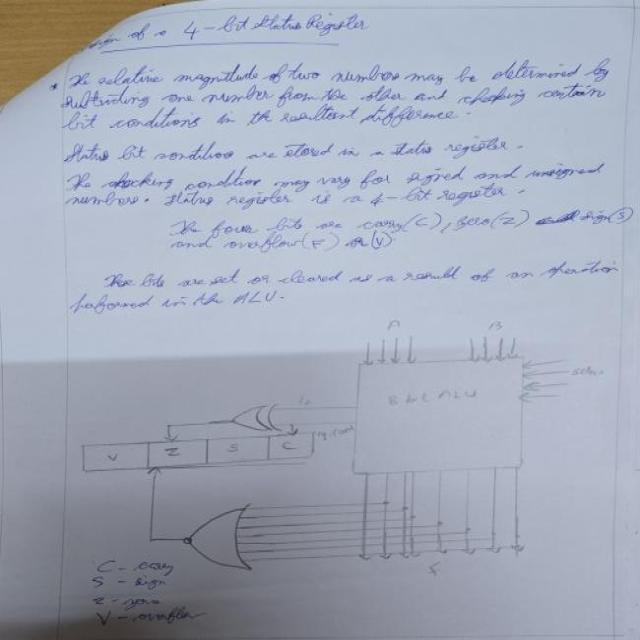Figure Detection - v3 Dataset Version2: (70, 312, 614, 638)
